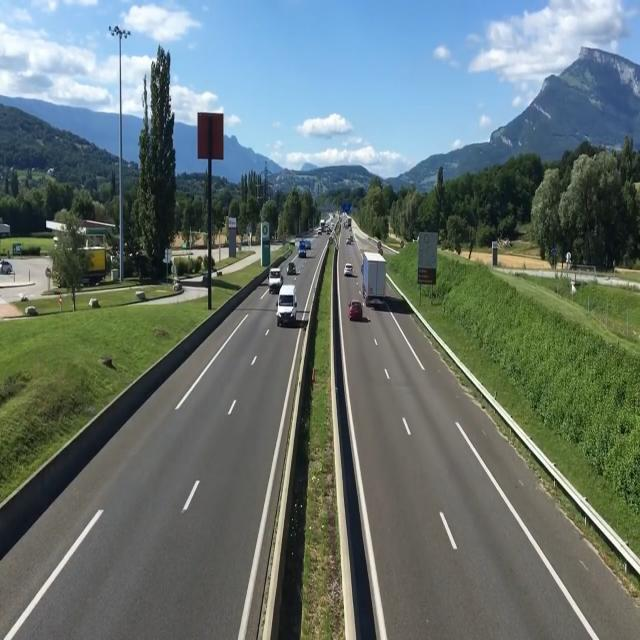car: (271, 280, 301, 331), (297, 232, 315, 262), (346, 299, 365, 321), (340, 258, 356, 279), (285, 257, 298, 280)
truck: (360, 253, 390, 306)
